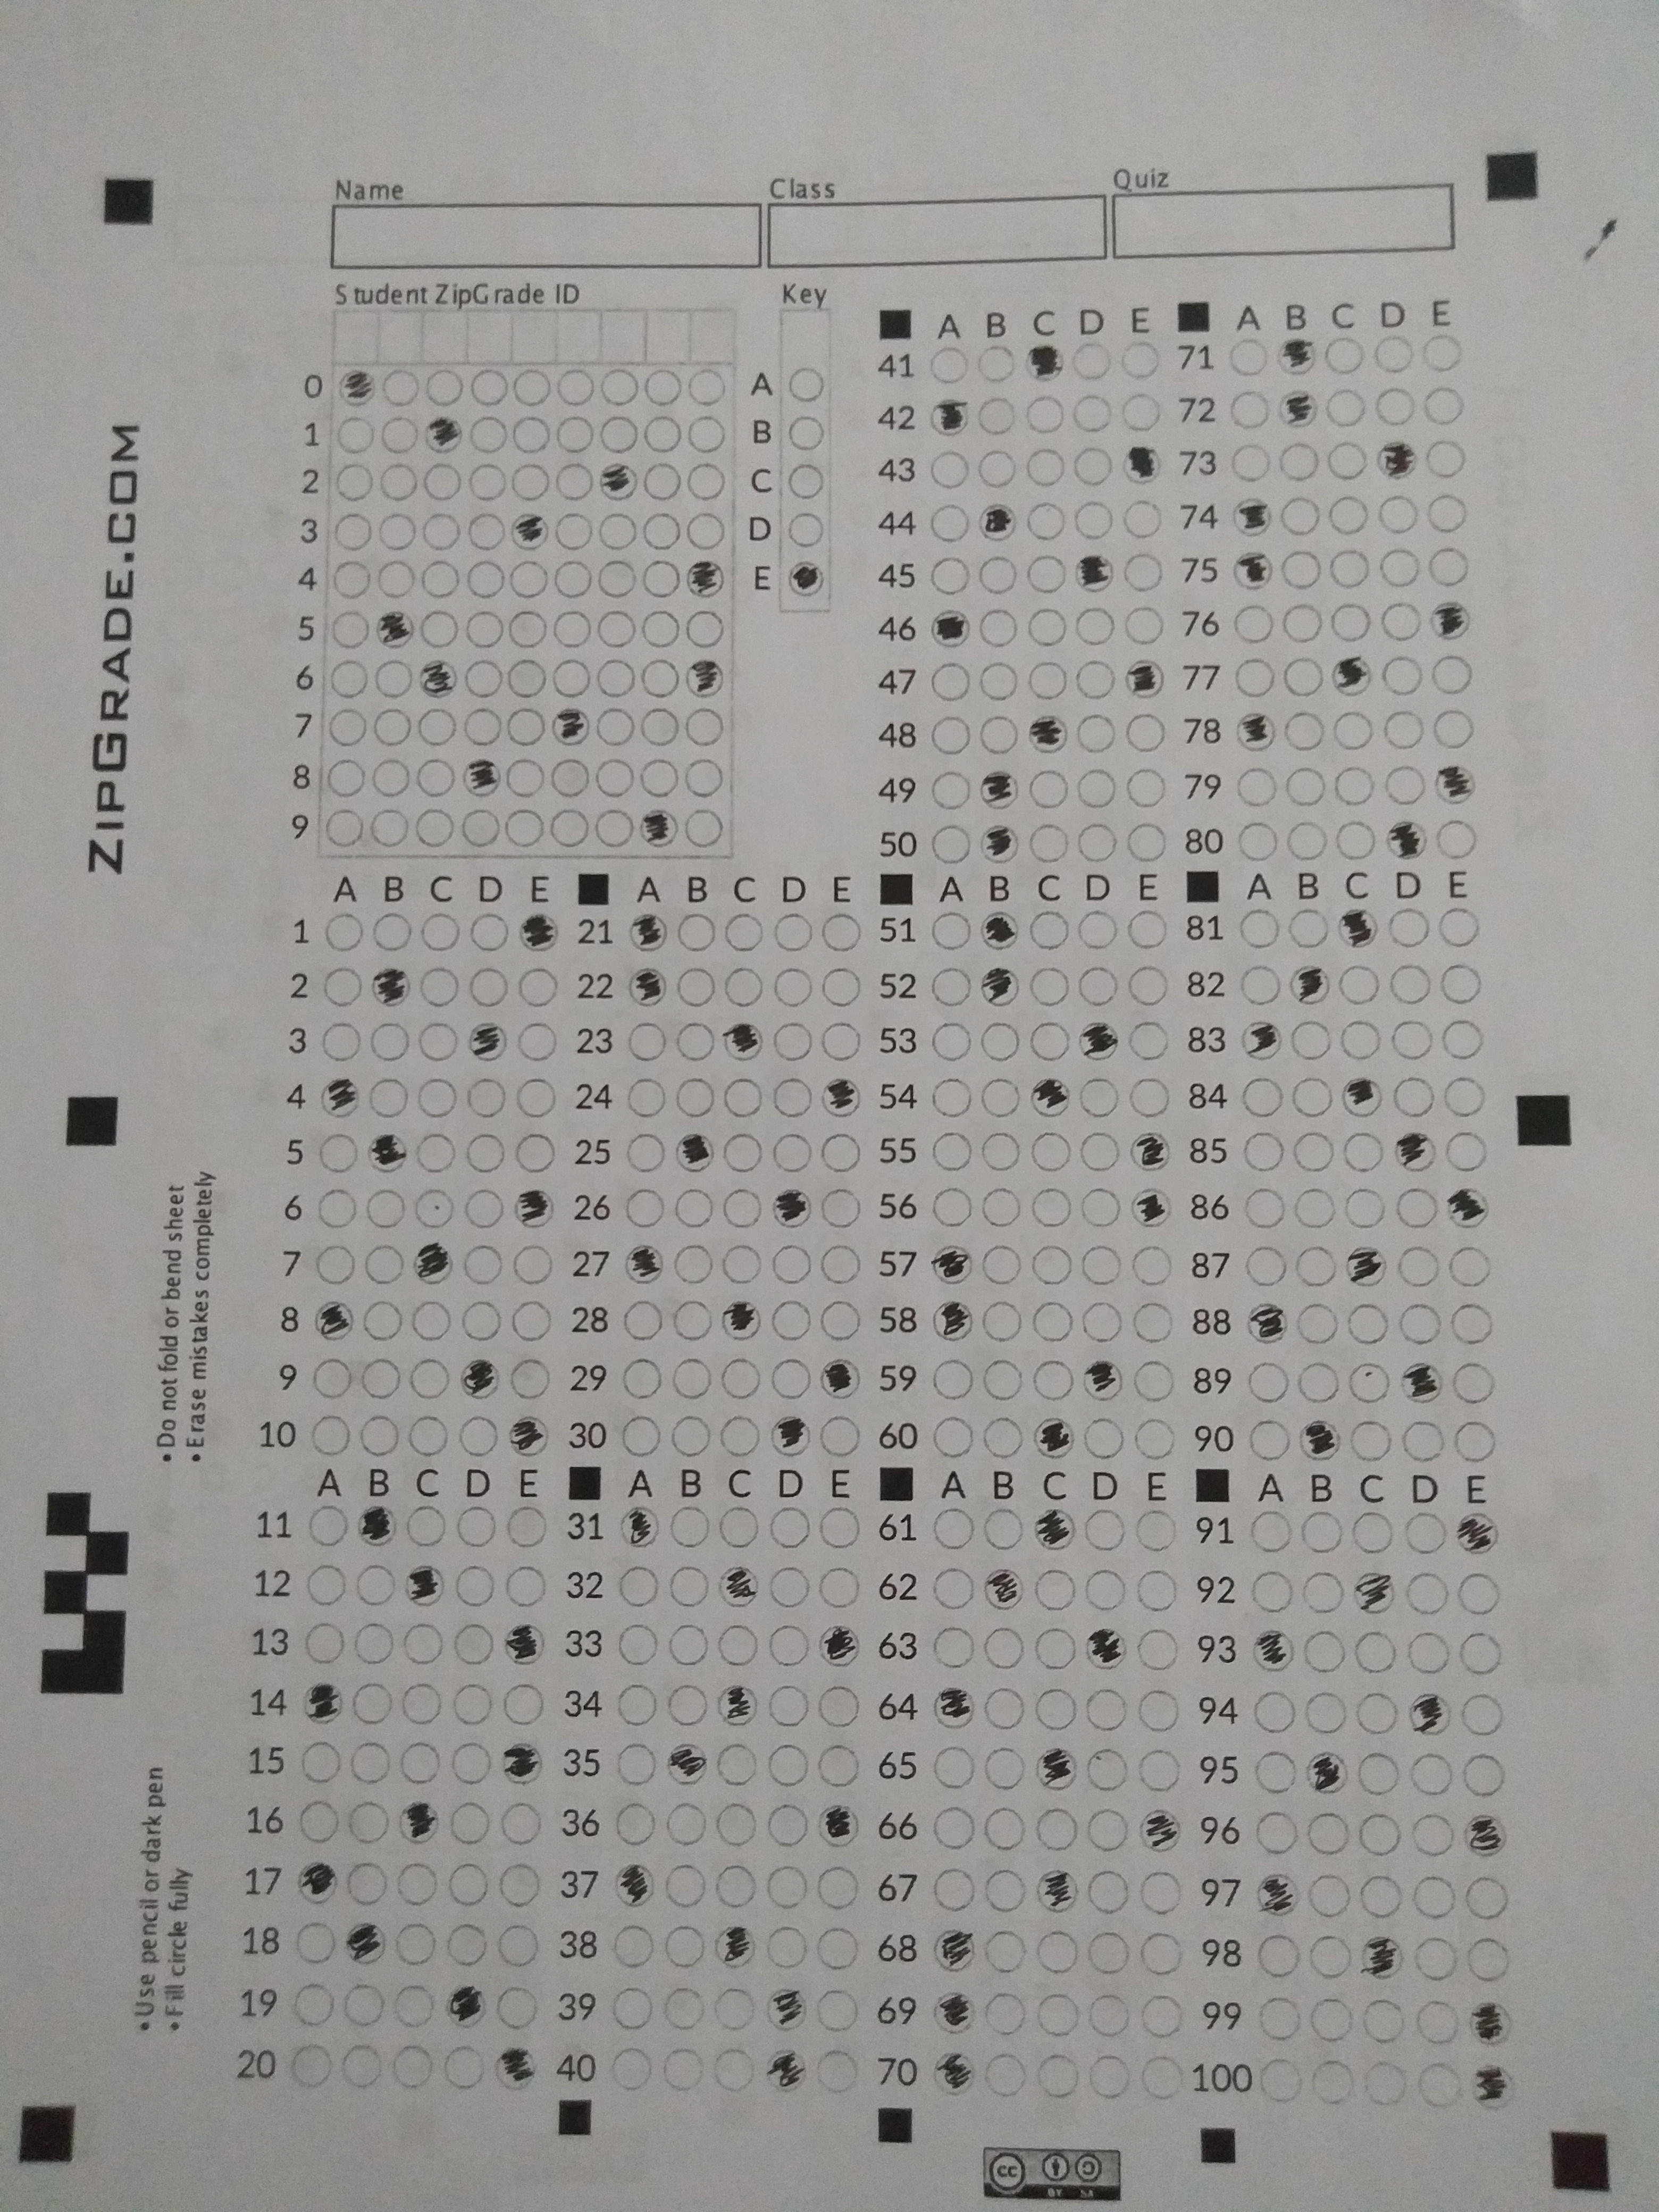not-c: (979, 1928, 1028, 1972), (929, 1867, 978, 1911), (1356, 1813, 1405, 1857), (1255, 2057, 1303, 2101), (1415, 2062, 1462, 2106), (1138, 1869, 1185, 1912), (981, 1869, 1028, 1912), (1410, 1813, 1457, 1857), (1138, 1994, 1185, 2038), (1086, 1994, 1133, 2038), (981, 2052, 1028, 2095), (979, 1991, 1026, 2034), (1138, 1932, 1185, 1975), (1035, 1930, 1082, 1973), (1253, 1933, 1300, 1977), (1462, 1874, 1509, 1918), (1410, 1876, 1457, 1919), (1358, 1874, 1405, 1918), (1138, 2055, 1185, 2099), (1309, 2059, 1356, 2102), (1307, 1998, 1354, 2041), (1256, 1996, 1303, 2040), (1466, 1939, 1513, 1982), (1412, 1937, 1459, 1980), (1361, 2060, 1408, 2104), (1359, 2000, 1406, 2043), (1415, 2001, 1462, 2045), (1084, 1871, 1131, 1912), (1305, 1811, 1352, 1853), (1086, 2054, 1133, 2095), (1033, 2054, 1080, 2095), (1035, 1994, 1082, 2036), (1086, 1932, 1133, 1973), (1307, 1935, 1354, 1977), (1305, 1874, 1352, 1916), (721, 911, 765, 953), (371, 911, 415, 953), (770, 967, 814, 1008), (721, 965, 765, 1007), (416, 1076, 460, 1118), (368, 1021, 411, 1062), (516, 1021, 559, 1062), (319, 1021, 362, 1062), (624, 1021, 667, 1062), (821, 965, 864, 1007), (364, 1186, 408, 1228), (315, 1186, 359, 1228), (770, 1076, 814, 1118), (676, 1076, 720, 1118), (312, 1244, 355, 1285), (819, 1186, 863, 1228), (624, 1186, 667, 1228), (821, 1130, 864, 1172), (720, 1132, 763, 1174), (462, 1188, 505, 1230), (413, 1188, 457, 1230), (770, 1298, 814, 1339), (669, 1299, 713, 1341), (622, 1299, 666, 1341), (460, 1299, 504, 1341), (720, 1242, 763, 1284), (770, 1242, 814, 1284), (673, 1242, 716, 1284), (511, 1244, 554, 1285), (460, 1242, 504, 1284), (362, 1244, 406, 1285), (669, 1414, 713, 1456), (457, 1414, 500, 1456), (310, 1413, 354, 1454), (718, 1357, 762, 1399), (620, 1357, 664, 1399), (509, 1357, 552, 1399), (359, 1357, 403, 1399), (310, 1359, 354, 1400), (455, 1505, 498, 1547), (404, 1505, 448, 1547), (817, 1414, 861, 1456), (350, 1622, 394, 1663), (817, 1566, 861, 1608), (667, 1564, 711, 1606), (617, 1566, 660, 1608), (504, 1564, 547, 1606), (769, 1507, 812, 1548), (669, 1505, 713, 1547), (769, 1623, 812, 1665), (716, 1622, 760, 1663), (349, 1742, 392, 1784), (817, 1684, 861, 1726), (765, 1684, 809, 1726), (666, 1684, 709, 1726), (615, 1683, 659, 1724), (342, 1984, 385, 2026), (288, 2043, 331, 2085), (293, 1982, 336, 2024), (296, 1799, 340, 1841), (817, 1743, 861, 1785), (767, 1743, 810, 1785), (714, 1743, 758, 1785), (613, 1743, 657, 1785), (446, 1862, 490, 1904), (390, 2045, 434, 2087), (392, 1923, 436, 1965), (664, 1864, 708, 1905), (763, 1803, 807, 1844), (714, 1803, 758, 1844), (664, 1803, 708, 1844), (443, 2047, 486, 2088), (714, 1989, 758, 2031), (662, 2048, 706, 2090), (612, 1987, 655, 2029), (816, 1928, 859, 1970), (662, 1925, 706, 1966), (763, 1867, 807, 1909), (814, 2048, 857, 2090), (713, 2048, 756, 2090), (1025, 446, 1068, 488), (1122, 711, 1168, 751), (974, 606, 1019, 646), (927, 660, 972, 700), (1119, 390, 1164, 430), (1117, 340, 1162, 380), (1026, 822, 1072, 862), (1124, 768, 1169, 808), (1277, 495, 1323, 535), (1373, 387, 1419, 427), (1279, 549, 1324, 589), (1429, 655, 1474, 695), (1281, 657, 1326, 697), (1378, 601, 1424, 641), (1284, 822, 1330, 862), (1382, 765, 1427, 805), (1073, 965, 1119, 1005), (1025, 965, 1070, 1005), (927, 1021, 972, 1061), (929, 1130, 974, 1170), (1129, 1303, 1175, 1343), (978, 1301, 1023, 1341), (1129, 1245, 1175, 1285), (1077, 1188, 1122, 1228), (1131, 1418, 1176, 1458), (1286, 907, 1331, 948), (1394, 1186, 1439, 1226), (1391, 1076, 1436, 1116), (1391, 1019, 1436, 1059), (1291, 1188, 1337, 1228), (1340, 1132, 1385, 1172), (1396, 1247, 1441, 1287), (1133, 1510, 1178, 1550), (1399, 1421, 1445, 1461), (1347, 1362, 1392, 1402), (1406, 1632, 1452, 1672), (1298, 1512, 1344, 1552), (1303, 1693, 1349, 1733), (983, 1747, 1028, 1787), (1033, 1808, 1079, 1848), (1462, 1754, 1507, 1794), (1410, 1754, 1455, 1794), (324, 911, 366, 953), (774, 911, 816, 953), (418, 965, 460, 1007), (514, 967, 556, 1008), (467, 965, 509, 1007), (467, 911, 509, 953), (676, 967, 718, 1008), (368, 1076, 410, 1118), (418, 1021, 460, 1062), (626, 1076, 667, 1118), (465, 1130, 507, 1172), (317, 1132, 359, 1174), (723, 1076, 765, 1118), (676, 1021, 718, 1062), (721, 1186, 763, 1228), (674, 1186, 716, 1228), (770, 1132, 812, 1174), (819, 1299, 861, 1341), (509, 1299, 551, 1341), (620, 1414, 662, 1456), (357, 1413, 399, 1454), (770, 1359, 812, 1400), (671, 1357, 713, 1399), (408, 1357, 450, 1399), (453, 1623, 495, 1665), (401, 1622, 443, 1663), (303, 1622, 345, 1663), (617, 1623, 659, 1665), (450, 1742, 491, 1784), (399, 1742, 441, 1784), (345, 1864, 387, 1905), (446, 1923, 488, 1965), (392, 1986, 434, 2027), (500, 1801, 542, 1843), (615, 1803, 657, 1844), (498, 1864, 540, 1905), (765, 1926, 807, 1968), (816, 1991, 857, 2033), (821, 913, 864, 953), (676, 913, 720, 953), (418, 913, 462, 953), (464, 1078, 507, 1118), (512, 1132, 556, 1172), (413, 1134, 457, 1174), (819, 1021, 863, 1061), (772, 1021, 816, 1061), (408, 1299, 451, 1339), (361, 1299, 404, 1339), (819, 1242, 863, 1282), (305, 1505, 349, 1545), (718, 1416, 762, 1456), (769, 1568, 812, 1608), (453, 1564, 497, 1604), (354, 1564, 397, 1604), (305, 1564, 349, 1604), (819, 1507, 863, 1547), (718, 1507, 762, 1547), (399, 1683, 443, 1723), (350, 1683, 394, 1723), (667, 1625, 711, 1665), (300, 1742, 343, 1782), (293, 1923, 336, 1963), (394, 1862, 437, 1902), (446, 1803, 490, 1843), (338, 2045, 382, 2085), (497, 1987, 540, 2027), (495, 1925, 538, 1965), (664, 1987, 708, 2027), (613, 1925, 657, 1965), (816, 1867, 859, 1907), (714, 1865, 758, 1905), (927, 345, 971, 385), (1025, 394, 1068, 434), (1068, 341, 1112, 381), (978, 716, 1021, 756), (976, 449, 1019, 489), (974, 395, 1018, 435), (929, 556, 972, 596), (927, 448, 971, 488), (1122, 604, 1166, 644), (1122, 498, 1166, 538), (1072, 446, 1115, 486), (1281, 603, 1324, 643), (1323, 334, 1366, 374), (1075, 768, 1119, 808), (929, 770, 972, 810), (1378, 495, 1422, 535), (1326, 495, 1370, 535), (1422, 385, 1466, 425), (1229, 388, 1272, 428), (1373, 334, 1417, 374), (1427, 493, 1471, 533), (1246, 1420, 1290, 1460), (1333, 765, 1377, 805), (1284, 766, 1328, 806), (1234, 766, 1277, 806), (1431, 707, 1474, 747), (1284, 711, 1328, 751), (1382, 655, 1425, 695), (1230, 657, 1274, 697), (1328, 601, 1371, 641), (1434, 819, 1478, 859), (1236, 820, 1279, 860), (1026, 1021, 1070, 1061), (1126, 965, 1169, 1005), (1077, 1130, 1121, 1170), (1028, 1130, 1072, 1170), (1077, 1076, 1121, 1116), (1079, 1301, 1122, 1341), (1079, 1245, 1122, 1285), (1028, 1188, 1072, 1228), (979, 1418, 1023, 1458), (1133, 1362, 1176, 1402), (1030, 1360, 1073, 1400), (981, 1360, 1025, 1400), (1337, 965, 1380, 1005), (1237, 963, 1281, 1003), (1436, 907, 1480, 948), (1236, 907, 1279, 948), (1338, 1019, 1382, 1059), (1439, 963, 1483, 1003), (1445, 1130, 1488, 1170), (1243, 1188, 1286, 1228), (1291, 1130, 1335, 1170), (1290, 1076, 1333, 1116), (1344, 1303, 1387, 1343), (931, 1569, 974, 1609), (979, 1508, 1023, 1548), (1450, 1421, 1493, 1461), (1349, 1420, 1392, 1460), (1033, 1629, 1077, 1669), (981, 1627, 1025, 1667), (1032, 1569, 1075, 1609), (1354, 1632, 1398, 1672), (1302, 1573, 1345, 1613), (1136, 1630, 1180, 1670), (1253, 1691, 1297, 1731), (1033, 1688, 1077, 1728), (983, 1688, 1026, 1728), (1253, 1750, 1297, 1791), (1138, 1750, 1182, 1791), (1084, 1750, 1127, 1791), (932, 1747, 976, 1787), (1460, 1693, 1504, 1733), (1356, 1695, 1399, 1735), (1255, 1811, 1298, 1851), (932, 1808, 976, 1848), (1354, 1754, 1398, 1794), (1025, 608, 1070, 646), (1025, 556, 1070, 594), (1025, 502, 1070, 540), (1119, 552, 1164, 590), (1072, 500, 1117, 538), (1227, 340, 1272, 378), (1122, 822, 1168, 860), (1025, 770, 1070, 808), (1277, 441, 1323, 479), (1377, 547, 1422, 585), (1326, 549, 1371, 587), (1025, 911, 1070, 949), (1127, 1021, 1173, 1059), (927, 1078, 972, 1116), (1127, 1078, 1173, 1116), (1028, 1303, 1073, 1341), (1028, 1245, 1073, 1284), (978, 1245, 1023, 1284), (978, 1188, 1023, 1226), (929, 1188, 974, 1226), (1079, 1418, 1124, 1456), (929, 1360, 974, 1399), (1385, 909, 1431, 948), (1438, 1021, 1483, 1059), (1297, 1364, 1342, 1402), (1398, 1305, 1443, 1343), (1446, 1247, 1492, 1285), (1293, 1247, 1338, 1285), (929, 1629, 974, 1667), (1080, 1571, 1126, 1609), (1302, 1632, 1347, 1670), (1248, 1512, 1293, 1550), (1084, 1689, 1129, 1728), (1459, 1635, 1504, 1674), (322, 968, 364, 1008), (516, 1078, 558, 1118), (626, 1132, 667, 1172), (406, 1416, 448, 1456), (505, 1507, 547, 1547), (451, 1684, 493, 1724), (502, 1684, 544, 1724), (347, 1803, 389, 1843), (610, 2050, 652, 2090), (978, 554, 1019, 594), (976, 343, 1018, 383), (978, 662, 1021, 700), (927, 716, 971, 754), (927, 503, 971, 542), (1072, 394, 1115, 432), (1026, 660, 1070, 698), (1073, 712, 1117, 751), (1073, 660, 1117, 698), (1073, 606, 1117, 644), (1073, 824, 1117, 862), (927, 826, 971, 864), (1424, 439, 1467, 477), (1229, 442, 1272, 481), (1323, 388, 1366, 427), (1420, 333, 1464, 371), (1230, 604, 1274, 643), (1425, 547, 1469, 585), (1382, 711, 1425, 749), (1330, 711, 1373, 749), (1075, 909, 1119, 948), (927, 911, 971, 949), (1333, 820, 1377, 859), (978, 1022, 1021, 1061), (929, 967, 972, 1005), (1124, 909, 1168, 948), (978, 1132, 1021, 1170), (979, 1078, 1023, 1116), (931, 1418, 974, 1456), (1288, 1021, 1331, 1059), (1389, 965, 1432, 1003), (1443, 1076, 1486, 1115), (1243, 1247, 1286, 1285), (1344, 1188, 1387, 1226), (1241, 1132, 1284, 1170), (1239, 1076, 1283, 1115), (1450, 1305, 1493, 1343), (1295, 1305, 1338, 1343), (1246, 1364, 1290, 1402), (1082, 1510, 1126, 1548), (931, 1508, 974, 1547), (1452, 1364, 1495, 1402), (1134, 1571, 1178, 1609), (1457, 1575, 1500, 1613), (1405, 1575, 1448, 1613), (1249, 1573, 1293, 1611), (1405, 1515, 1448, 1554), (1351, 1514, 1394, 1552), (1136, 1691, 1180, 1730), (1086, 1810, 1129, 1848), (985, 1808, 1028, 1846), (425, 366, 464, 406), (462, 806, 500, 846), (556, 415, 594, 455), (469, 415, 507, 455), (688, 368, 727, 408), (599, 368, 638, 408), (687, 462, 725, 502), (556, 462, 594, 502), (467, 559, 505, 599), (333, 559, 371, 599), (688, 510, 727, 550), (643, 510, 681, 550), (599, 510, 638, 550), (378, 512, 416, 552), (333, 510, 371, 550), (598, 610, 636, 650), (552, 608, 591, 648), (598, 559, 636, 599), (551, 806, 589, 846), (551, 658, 589, 698), (596, 707, 634, 747), (598, 658, 636, 698), (640, 758, 678, 798), (641, 707, 680, 747), (641, 658, 680, 698), (685, 808, 723, 848), (685, 758, 723, 798), (687, 707, 725, 747), (369, 806, 408, 846), (416, 758, 455, 798), (462, 705, 500, 745), (465, 658, 504, 698), (505, 808, 544, 848), (505, 758, 544, 798), (507, 707, 545, 747), (507, 658, 545, 698), (416, 808, 455, 848), (1326, 442, 1366, 481), (786, 364, 826, 402), (788, 460, 826, 500), (423, 463, 462, 502), (512, 415, 551, 453), (380, 415, 418, 453), (687, 610, 725, 648), (641, 610, 680, 648), (420, 610, 458, 648), (788, 413, 826, 451), (336, 462, 373, 502), (688, 415, 725, 455), (601, 415, 638, 455), (643, 460, 680, 500), (512, 462, 549, 502), (511, 559, 547, 599), (378, 559, 415, 599), (556, 510, 592, 550), (469, 512, 505, 552), (329, 705, 366, 745), (331, 657, 368, 697), (511, 610, 547, 650), (467, 610, 504, 650), (333, 610, 369, 650), (643, 559, 680, 599), (549, 758, 586, 798), (596, 806, 633, 846), (596, 759, 633, 799), (326, 808, 362, 848), (328, 758, 364, 798), (373, 756, 410, 796), (418, 707, 455, 747), (375, 707, 411, 747), (469, 465, 505, 503), (380, 463, 416, 502), (645, 415, 681, 453), (336, 416, 375, 453), (422, 559, 458, 597), (423, 512, 460, 550), (554, 559, 591, 597), (375, 660, 411, 698), (385, 368, 420, 408), (559, 366, 594, 406), (516, 366, 551, 406), (472, 368, 507, 408), (645, 369, 681, 406), (788, 510, 824, 547)
taken-c: (1471, 2062, 1518, 2113), (1359, 1933, 1406, 1982), (1255, 1871, 1302, 1918), (493, 2043, 537, 2094), (713, 1925, 758, 1972), (816, 1622, 861, 1669), (1080, 1357, 1126, 1404), (1445, 1184, 1492, 1230), (1344, 1244, 1391, 1289), (1399, 1360, 1446, 1406), (931, 1928, 978, 1973), (1035, 1867, 1080, 1914), (1251, 1627, 1297, 1674), (1469, 2000, 1514, 2047), (343, 1918, 387, 1966), (932, 2050, 976, 2099), (397, 1799, 443, 1844), (1138, 1808, 1183, 1853), (981, 1566, 1026, 1611), (1455, 1510, 1500, 1555), (613, 1862, 657, 1909), (816, 1804, 863, 1848), (666, 1740, 709, 1787), (619, 1503, 662, 1550), (1032, 1414, 1075, 1461), (1086, 1625, 1129, 1672), (819, 1357, 864, 1400), (404, 1562, 448, 1608), (504, 1622, 547, 1667), (502, 1740, 545, 1785), (296, 1860, 340, 1905), (1432, 763, 1478, 806), (1384, 819, 1429, 862), (931, 1244, 976, 1287), (1239, 1017, 1284, 1061), (1394, 1129, 1438, 1174), (1033, 1747, 1079, 1791), (1032, 1507, 1077, 1550), (1408, 1691, 1452, 1737), (1305, 1750, 1349, 1796), (1464, 1813, 1509, 1857), (446, 1984, 488, 2031), (765, 2047, 807, 2094), (1338, 904, 1380, 951), (519, 911, 563, 954), (512, 1186, 556, 1230), (770, 1414, 814, 1458), (765, 1987, 809, 2031), (714, 1684, 758, 1728), (718, 1564, 762, 1608), (1121, 444, 1164, 488), (927, 606, 971, 650), (1429, 599, 1473, 643), (1330, 655, 1373, 698), (1234, 709, 1277, 752), (1131, 1186, 1175, 1230), (932, 1299, 976, 1343), (1288, 961, 1331, 1005), (1298, 1420, 1342, 1463), (934, 1991, 978, 2034), (932, 1686, 976, 1730), (368, 1129, 410, 1174), (821, 1075, 863, 1120), (1248, 1301, 1290, 1346), (1354, 1569, 1396, 1615), (596, 462, 640, 503), (509, 510, 552, 552), (369, 965, 411, 1008), (312, 1299, 354, 1343), (721, 1299, 763, 1343), (674, 1132, 718, 1174), (627, 965, 669, 1008), (355, 1505, 399, 1547), (301, 1681, 343, 1724), (1276, 387, 1319, 428), (1077, 1021, 1121, 1062), (321, 1075, 361, 1120), (415, 1240, 455, 1285), (460, 1355, 500, 1400), (418, 657, 460, 698), (551, 705, 592, 747), (460, 756, 502, 798), (772, 1188, 814, 1230), (721, 1021, 763, 1062), (1026, 712, 1068, 754), (978, 768, 1019, 810), (1377, 439, 1419, 481), (1232, 550, 1274, 592), (979, 911, 1021, 953), (1129, 1130, 1171, 1172), (509, 1414, 549, 1458), (626, 1242, 666, 1285), (626, 913, 669, 953), (1021, 343, 1065, 383), (976, 502, 1019, 542), (1230, 496, 1274, 536), (981, 965, 1021, 1008), (1028, 1078, 1072, 1118), (1340, 1078, 1384, 1118), (423, 415, 464, 456), (685, 559, 727, 599), (685, 658, 725, 700), (469, 1021, 509, 1062), (929, 397, 971, 437), (1073, 554, 1115, 594), (1124, 658, 1166, 698), (640, 808, 680, 848), (979, 824, 1019, 864), (1276, 338, 1317, 376), (338, 369, 378, 408), (376, 610, 415, 650), (788, 559, 826, 597)
